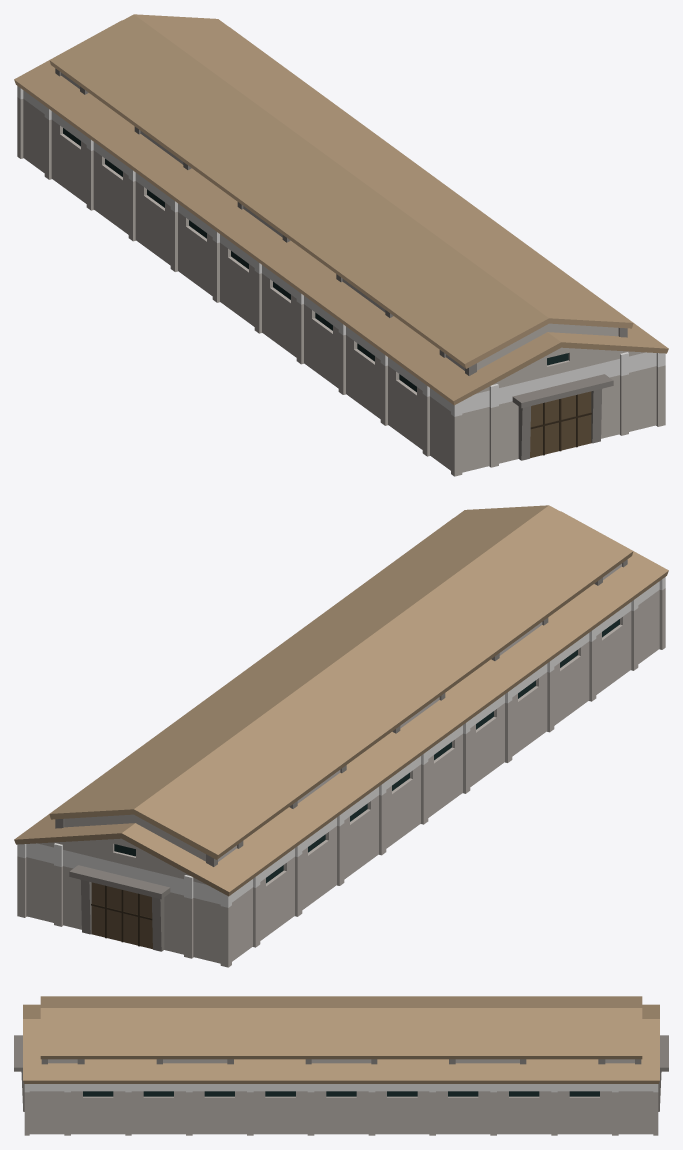
Rendered from Building_mode_L2_Factory001.fbx.
The picture shows the model from 3 angles, top to bottom: view 1: azimuth 30°, elevation 25°; view 2: azimuth 150°, elevation 25°; view 3: azimuth 270°, elevation 25°; orthographic projection. The views are drawn at different scales.
Parts seen in each view (by area): view 1: Building_mode_L2_Factory001; view 2: Building_mode_L2_Factory001; view 3: Building_mode_L2_Factory001.
Part boxes in pixels (left/top/right/bottom): Building_mode_L2_Factory001: left=14, top=14, right=668, bottom=476; Building_mode_L2_Factory001: left=14, top=505, right=668, bottom=967; Building_mode_L2_Factory001: left=14, top=996, right=668, bottom=1135.
Size of the model in its own units: 5.79 by 3.2 by 21.05.
